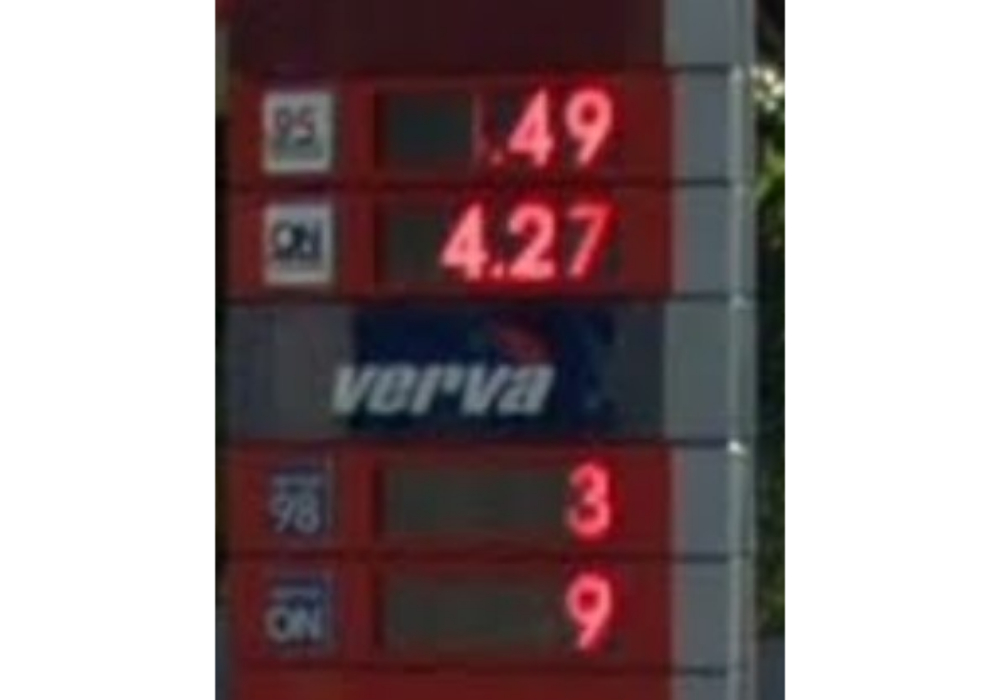ON: (259, 199, 336, 287), (259, 574, 331, 653)
PB95: (260, 87, 331, 176)
